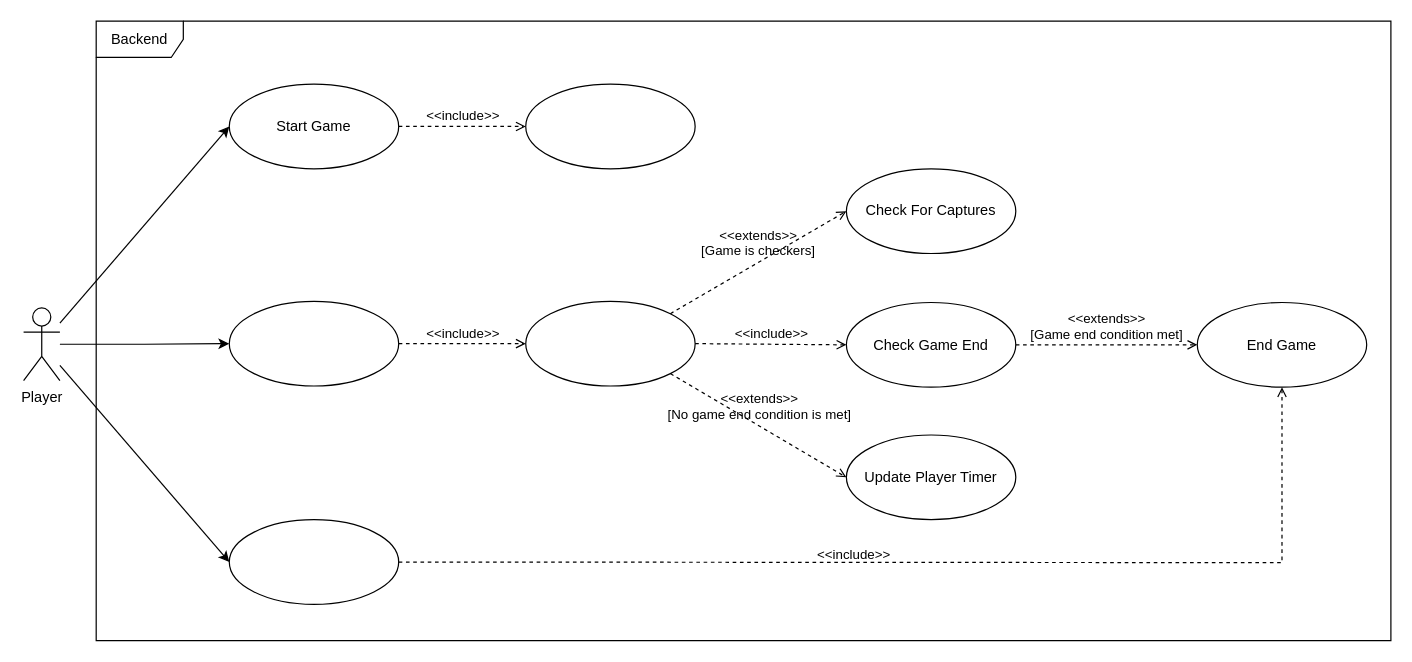
This 1412x662 diagram has some shape labels left out. Each missing label, with the centre of its shape:
"Choose A Side" goes at pixel 610 126.
"Place A Piece" goes at pixel 313 343.
"Resign Game" goes at pixel 313 561.
"Validate Move" goes at pixel 610 343.
